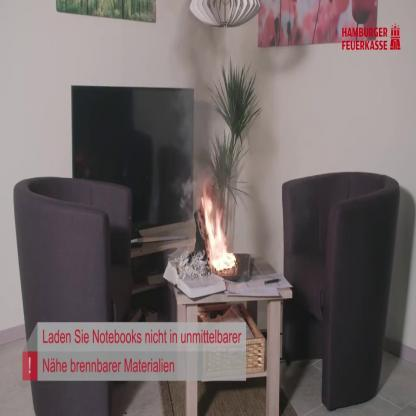fire: (181, 180, 247, 281)
